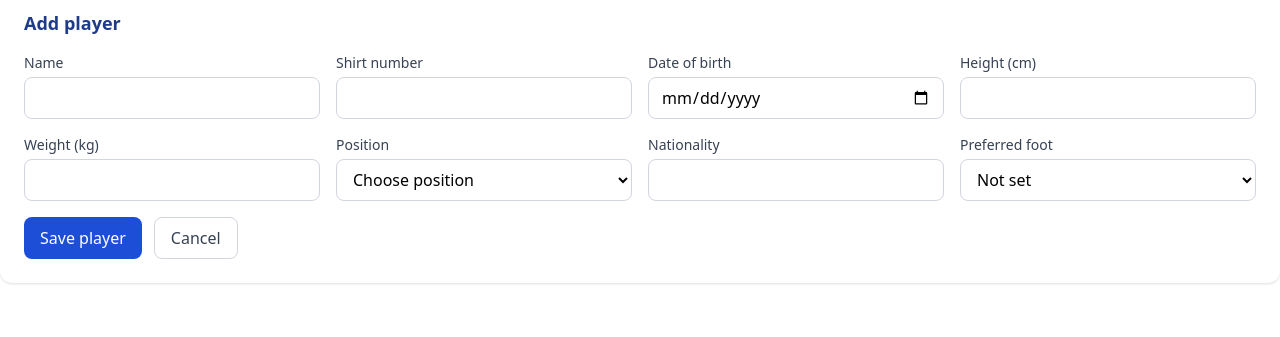
shows an error when saving fails
This screenshot has width=1280, height=337.
Type "Sam Otieno" into the field labelled "Name" at (172, 98), box [24, 77, 320, 119]
Type "9" into the number field labelled "Shirt number" at (484, 98), box [336, 77, 632, 119]
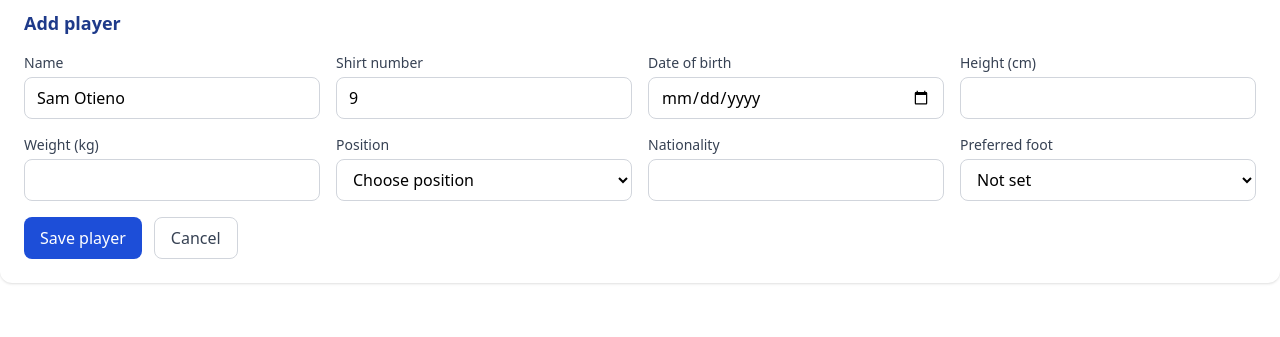
Type "2000-01-01" into the date field labelled "Date of birth" at (796, 98), box [648, 77, 944, 119]
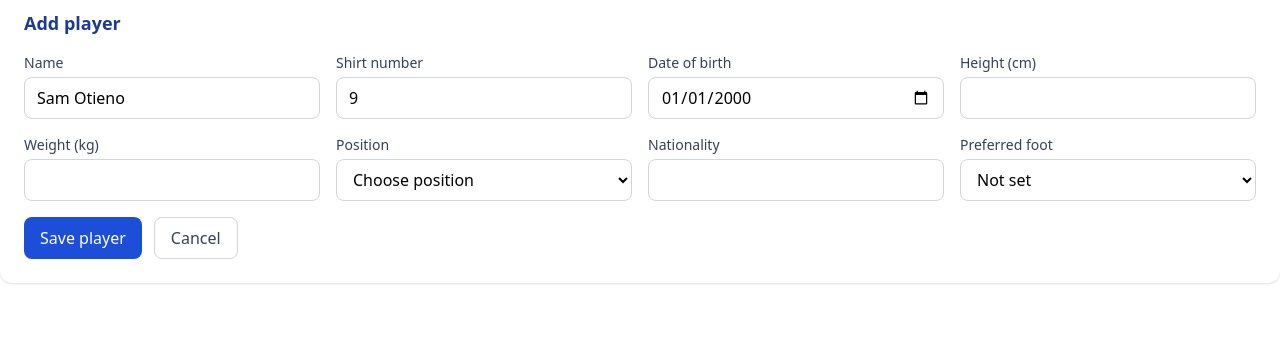
Type "180" into the number field labelled "Height (cm)" at (1108, 98), box [960, 77, 1256, 119]
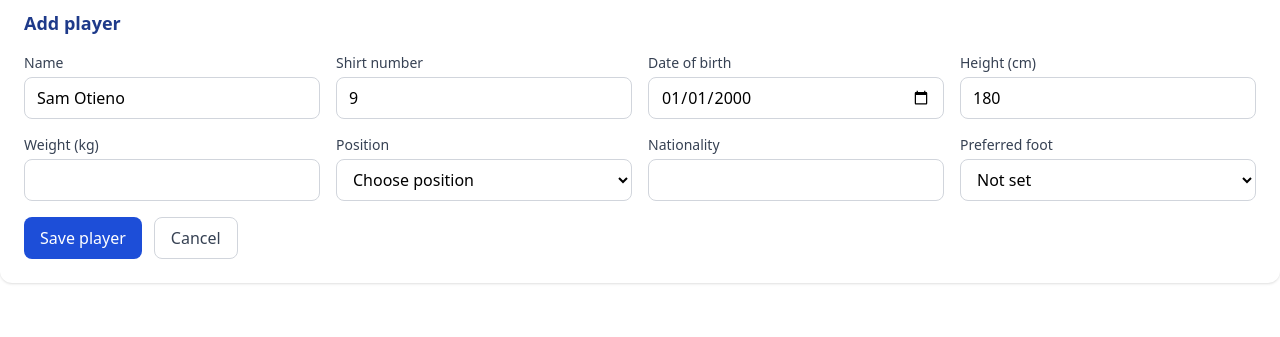
Select "Forward" in the dropdown labelled "Position" at (484, 180), box [336, 159, 632, 201]
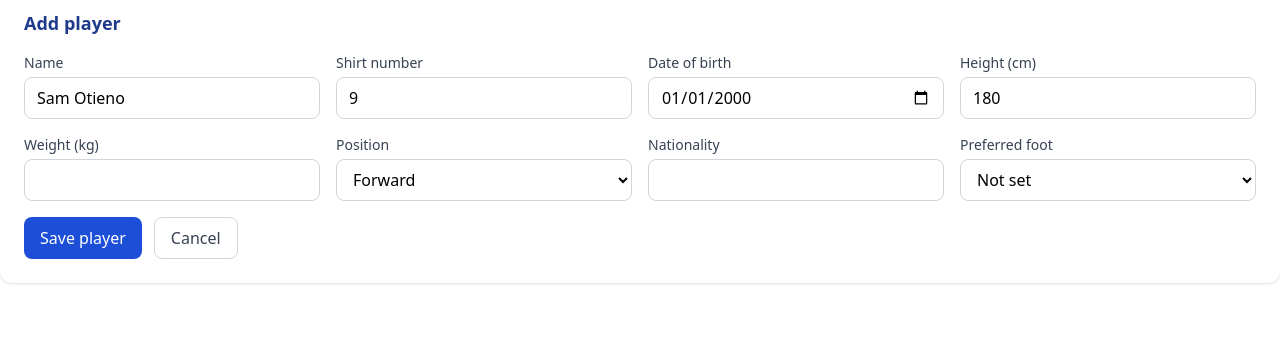
Type "70" into the number field labelled "Weight (kg)" at (172, 180), box [24, 159, 320, 201]
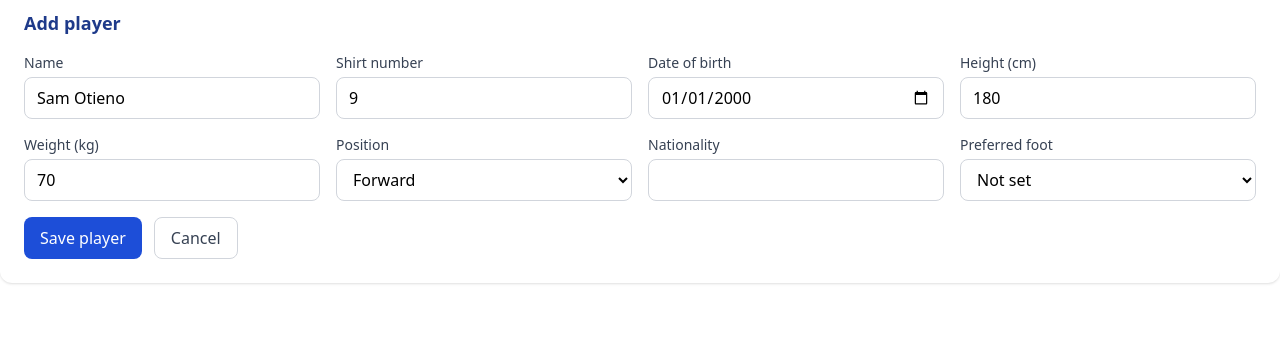
Click the button "Save player" at (83, 238), box [24, 217, 142, 259]
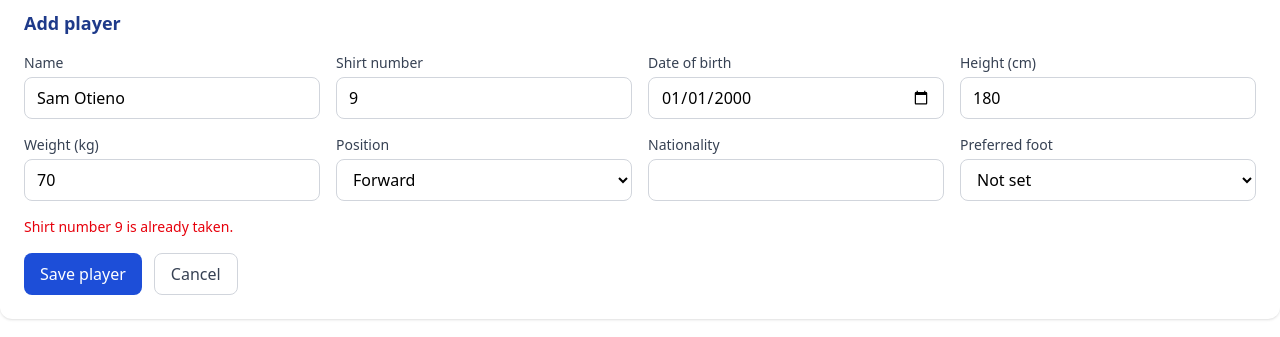
Check: the text "Shirt number 9 is already taken." is shown, box [24, 217, 233, 236]
